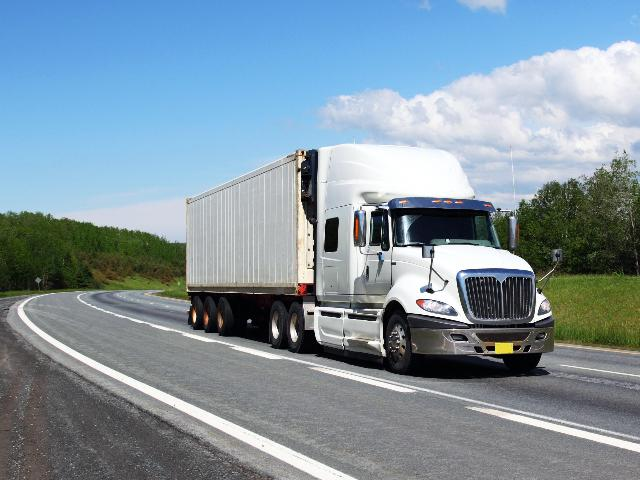truck: (147, 141, 577, 384)
